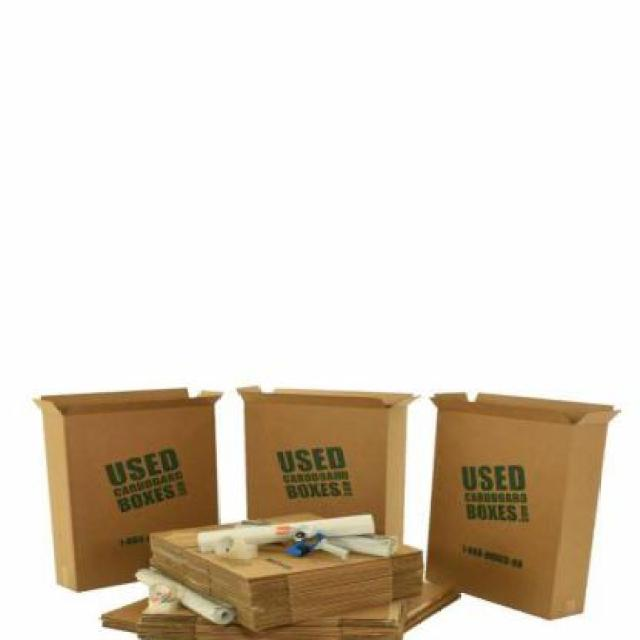box: (430, 375, 622, 630), (36, 386, 230, 594), (127, 510, 462, 630), (232, 362, 423, 570), (98, 565, 470, 640)
